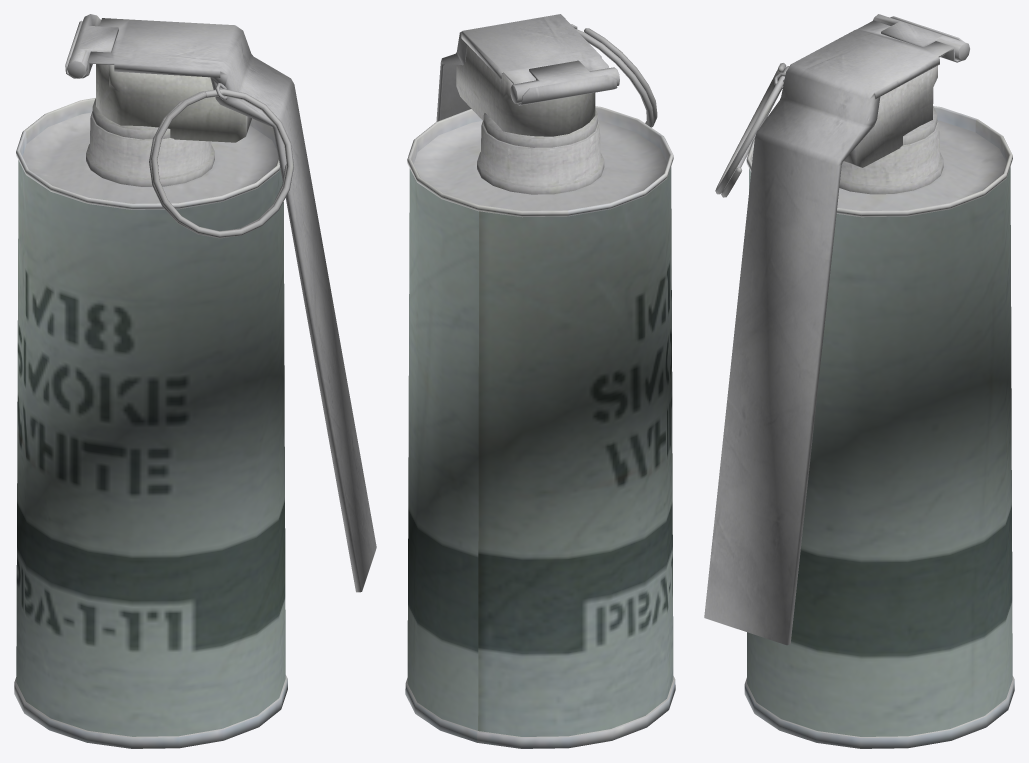
File: m18_smoke_grenade.dae
3 renders of one model, left to right at view 1: azimuth 30°, elevation 25°; view 2: azimuth 150°, elevation 25°; view 3: azimuth 270°, elevation 25°, orthographic.
Visible parts, largest first — view 1: LowPoly_512_texture_res; view 2: LowPoly_512_texture_res; view 3: LowPoly_512_texture_res.
Boxes of the visible parts, x1,y1,x2,y2 form: LowPoly_512_texture_res: (14, 14, 376, 748); LowPoly_512_texture_res: (405, 14, 675, 748); LowPoly_512_texture_res: (704, 14, 1014, 748).
Bounding box in the file's own units: 0.4271 × 0.3931 × 0.8977.
1 material, 1 textured.
